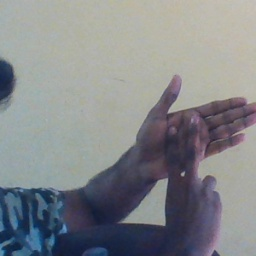N: (136, 72, 256, 213)
